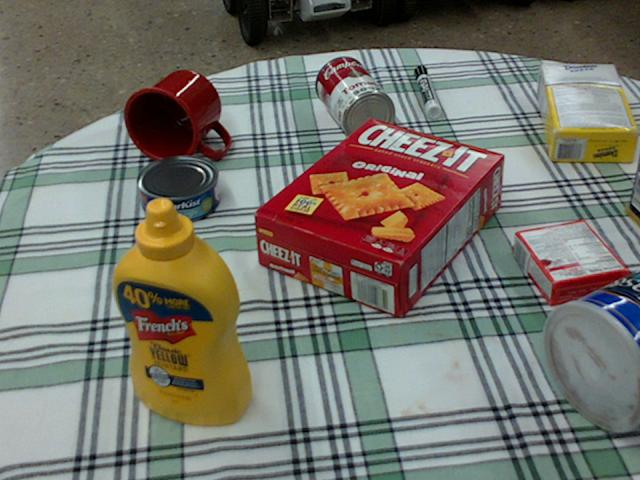cracker_box: (253, 119, 506, 317)
gelatin_box: (512, 219, 626, 302)
large_marker: (414, 65, 439, 116)
master_chef_can: (545, 269, 639, 432)
mug: (123, 69, 228, 163)
mustard_bottle: (111, 197, 253, 424)
potted_meat_can: (623, 144, 639, 227)
sugar_box: (537, 62, 639, 164)
tomato_soup_can: (314, 55, 395, 140)
tuna_fish_can: (134, 154, 218, 222)
